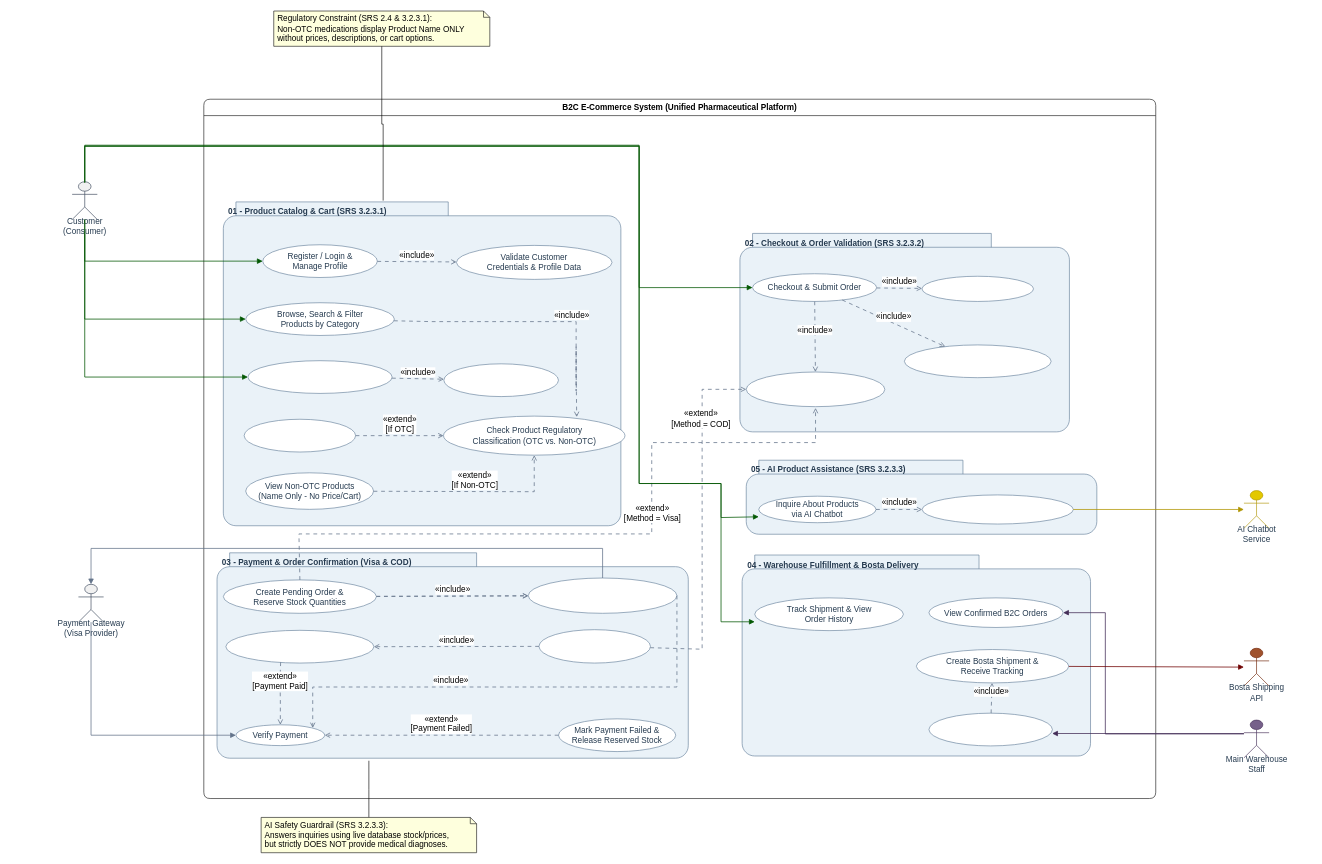
Image size: 1322x864. Some labels were removed from this diagram. Each missing label, with the centre of its shape:
Confirm Order & Deduct Main Warehouse Stock: [299,646]
Enter Delivery Details: [977,288]
Manage Shopping Cart (Eligible OTC Only): [319,376]
Pick, Check & Pack Products: [990,729]
Process Cash on Delivery (COD Order Approval): [594,646]
Request Payment Session & Pay via Visa Secure Page: [602,595]
Retrieve Registered Product Details, Prices & Stock: [997,509]
Select Payment Method (Visa or Cash on Delivery): [815,389]
Validate Order & Check Main Warehouse Stock: [977,361]
Validate OTC Eligibility & Cart Item Stock Limit: [500,380]
View OTC Details, Prices & Availability: [299,435]
